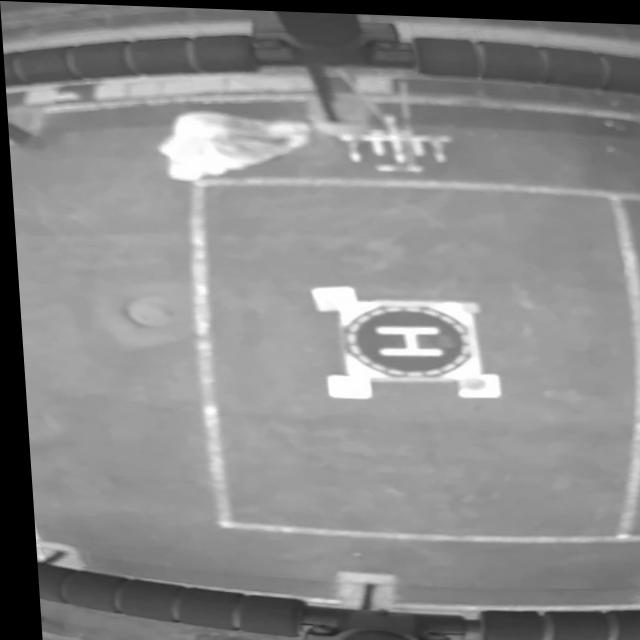Helipad: (374, 323, 438, 352)
